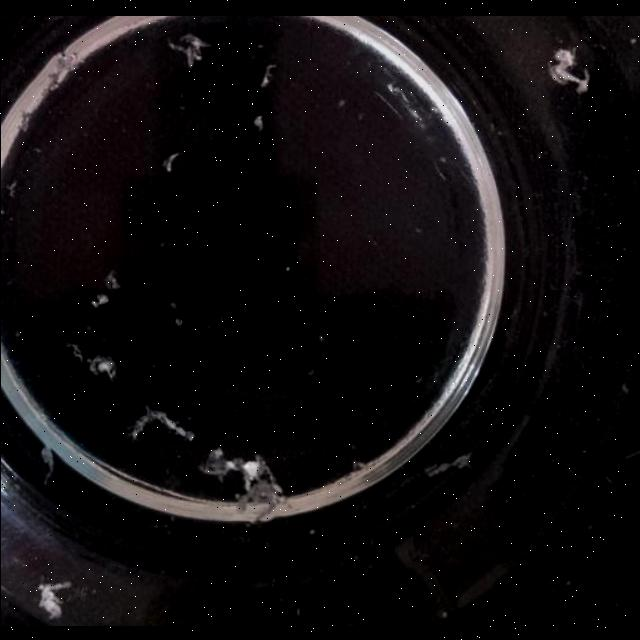Fibre: (198, 447, 284, 518), (129, 404, 195, 442), (548, 47, 588, 93), (70, 344, 114, 380), (166, 32, 210, 68), (383, 81, 422, 119), (36, 580, 74, 618), (421, 452, 471, 478), (45, 52, 75, 88), (38, 446, 54, 482), (161, 152, 179, 172), (64, 341, 82, 361), (260, 64, 276, 86), (104, 269, 120, 289), (18, 110, 32, 132), (90, 292, 108, 308), (4, 178, 16, 196), (252, 114, 264, 130)
microbeads: (336, 97, 346, 107), (174, 318, 182, 327), (316, 334, 324, 342), (628, 37, 636, 45), (284, 265, 290, 271)
